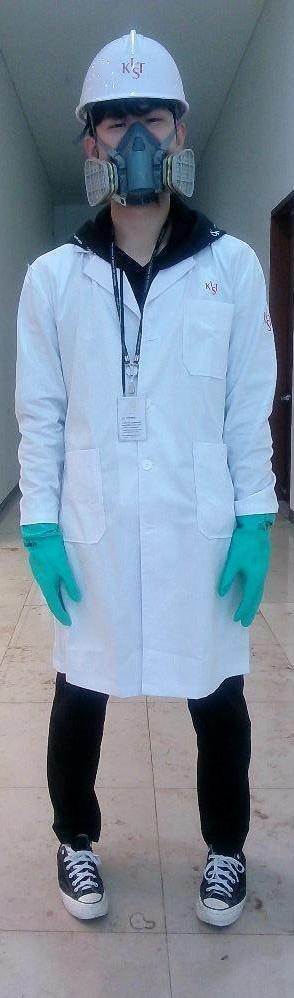lab_coat: (59, 236, 236, 685)
